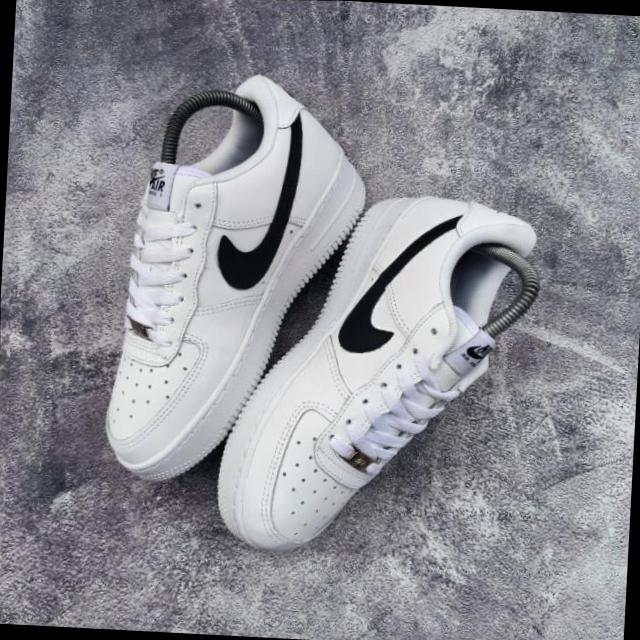nike_fake_airforce: (204, 178, 562, 570), (90, 62, 388, 494)
